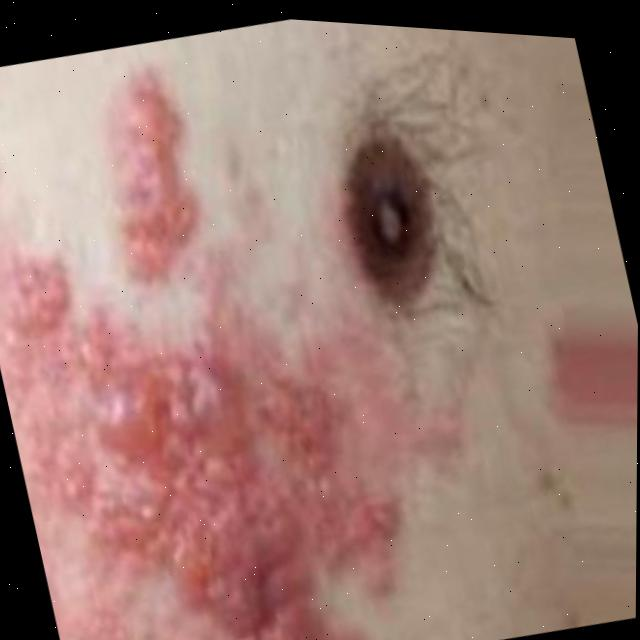Shingles: (0, 2, 416, 640)
